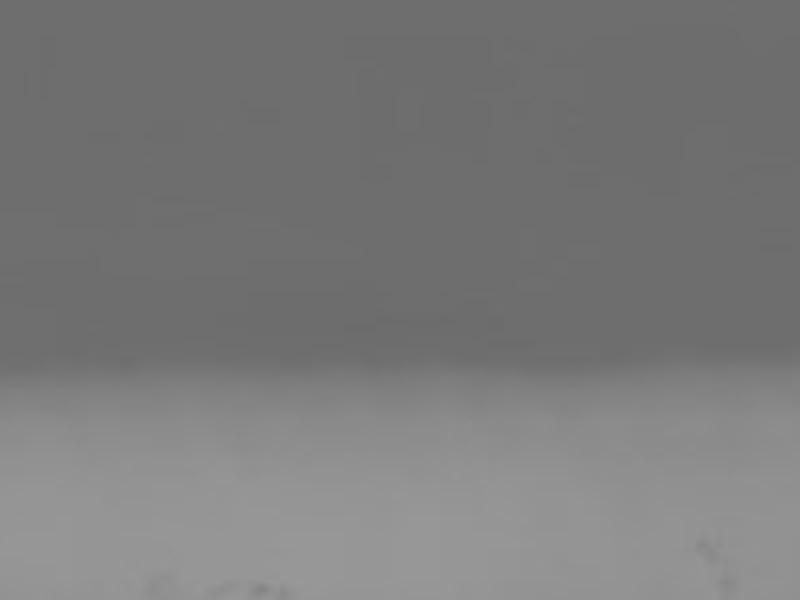defect: (203, 580, 239, 600), (696, 532, 716, 564), (247, 580, 272, 598)
